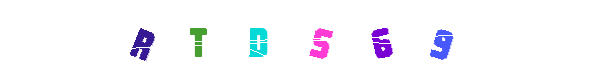6: (281, 0, 361, 80)
9: (401, 0, 481, 80)
D: (218, 0, 298, 80)
R: (158, 0, 238, 80)
S: (265, 0, 345, 80)
T: (217, 0, 297, 80)
